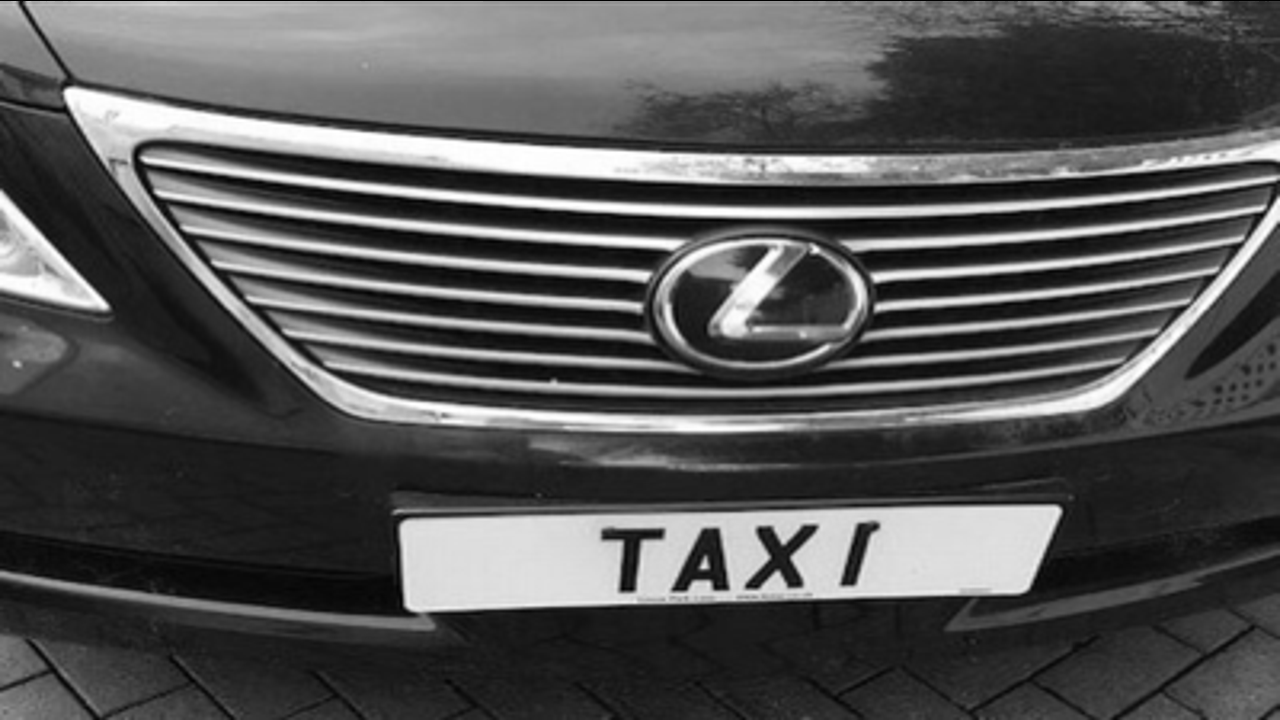license: (380, 487, 1078, 618)
